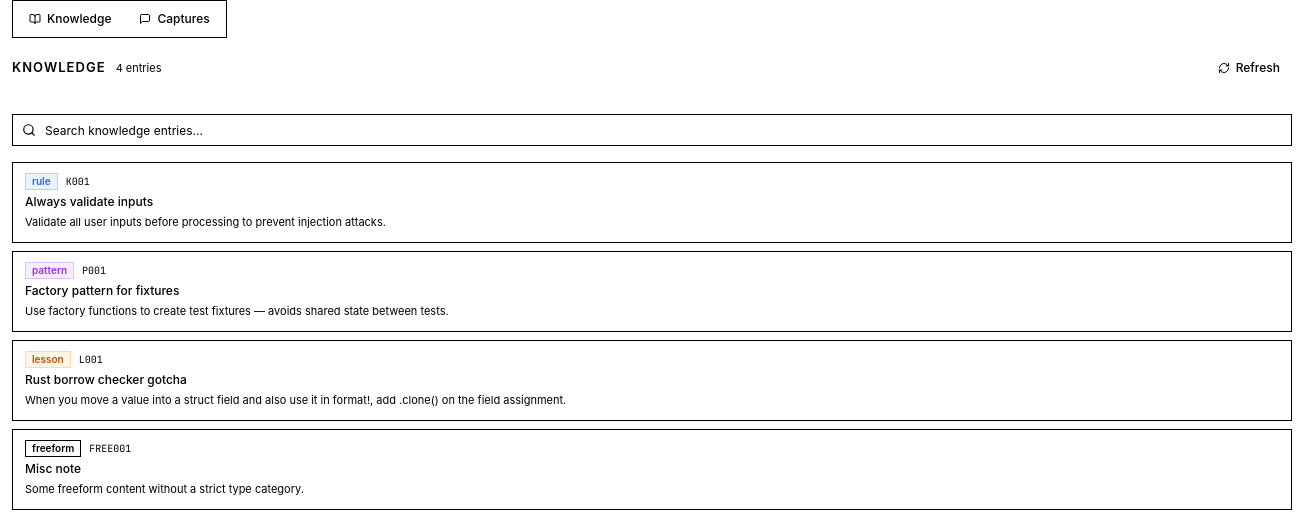
KnowledgeCapturesPanel › shows loading state for captures tab when isFetching and no data
The width and height of the screenshot is (1304, 527).
Step 1. Click the button with test id "tab-captures" → (175,19), box [128, 5, 222, 33]
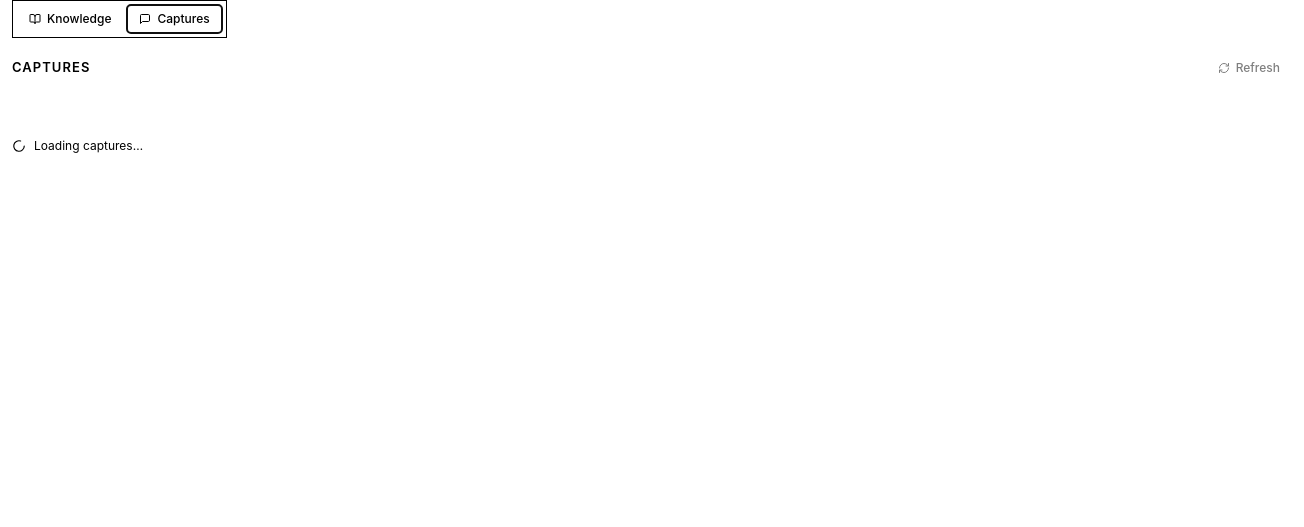
Expected: the text "Loading captures…" is shown, [12, 138, 143, 153]
